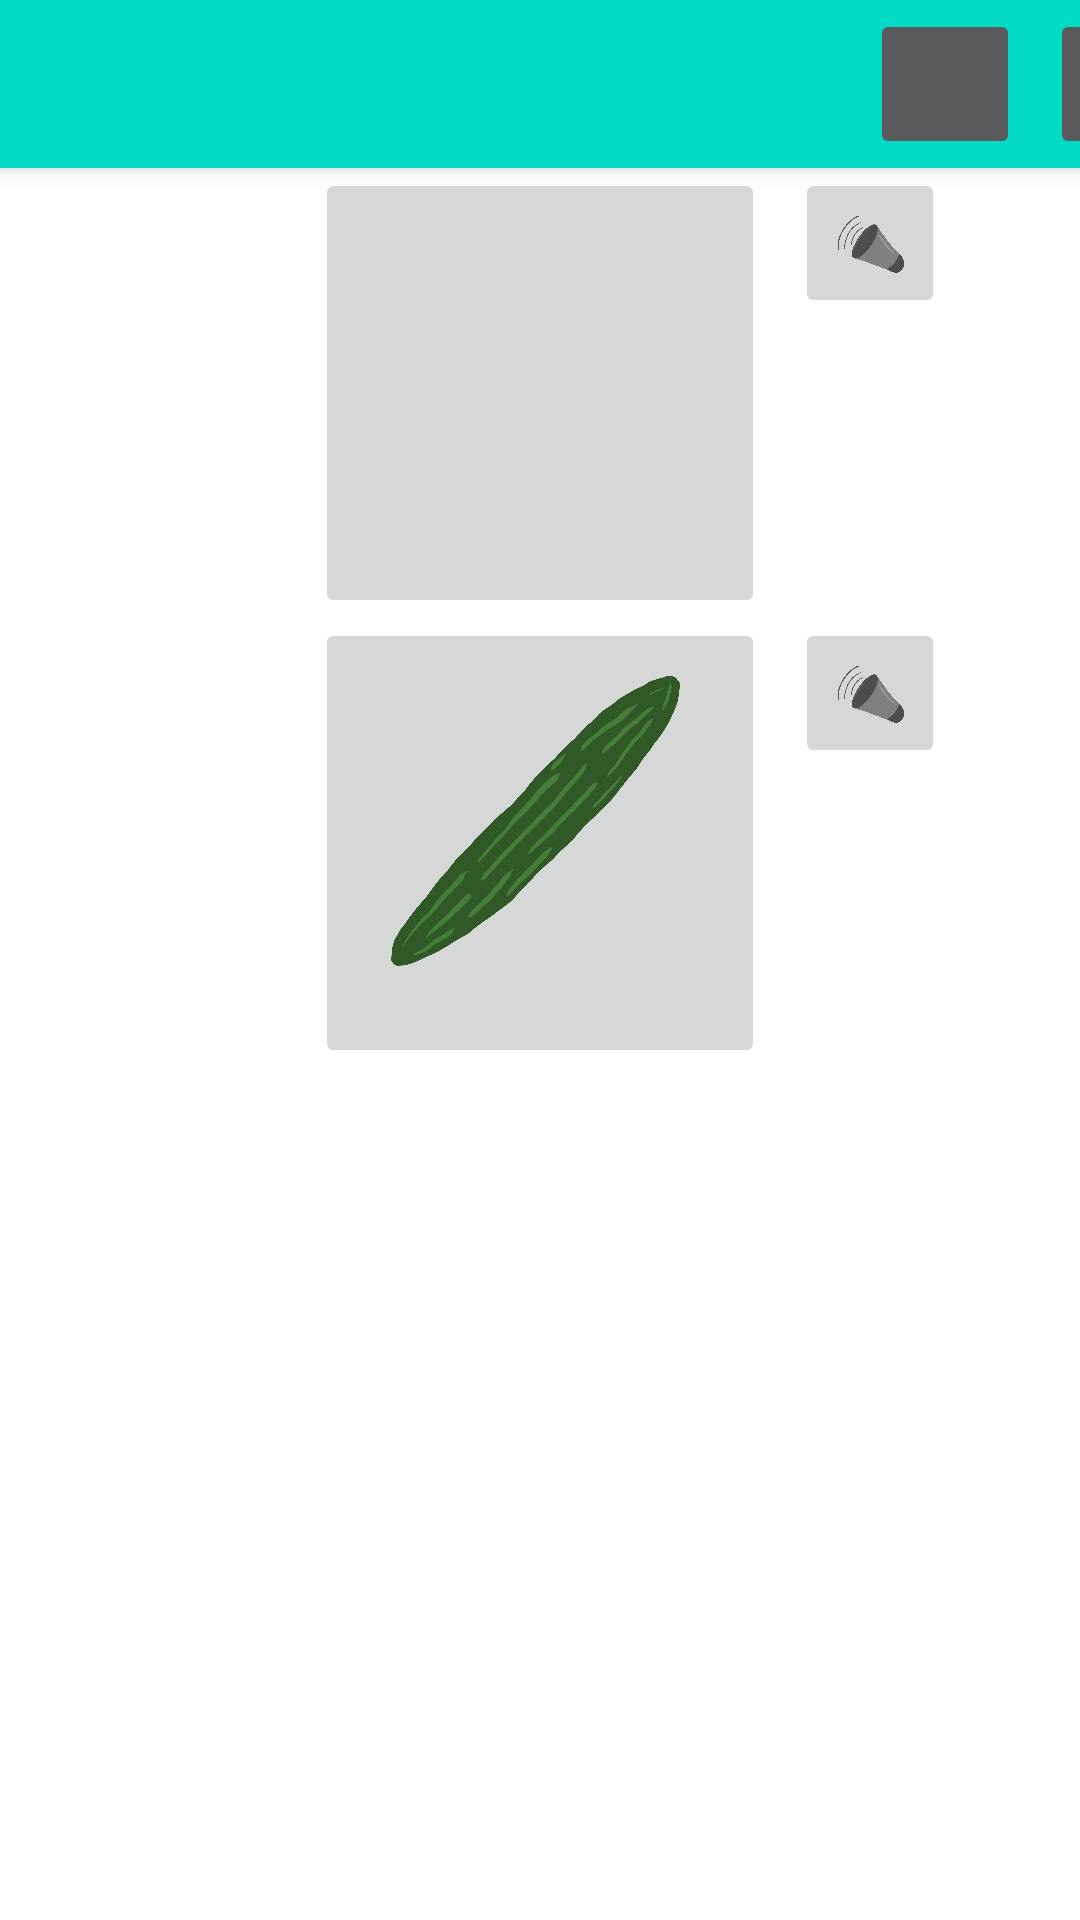

Icon bounding boxes for this 1080 × 1920 phone screenshot, format (x1, y1, x2, y2):
sound: (807, 186, 933, 300), (807, 636, 933, 750)
